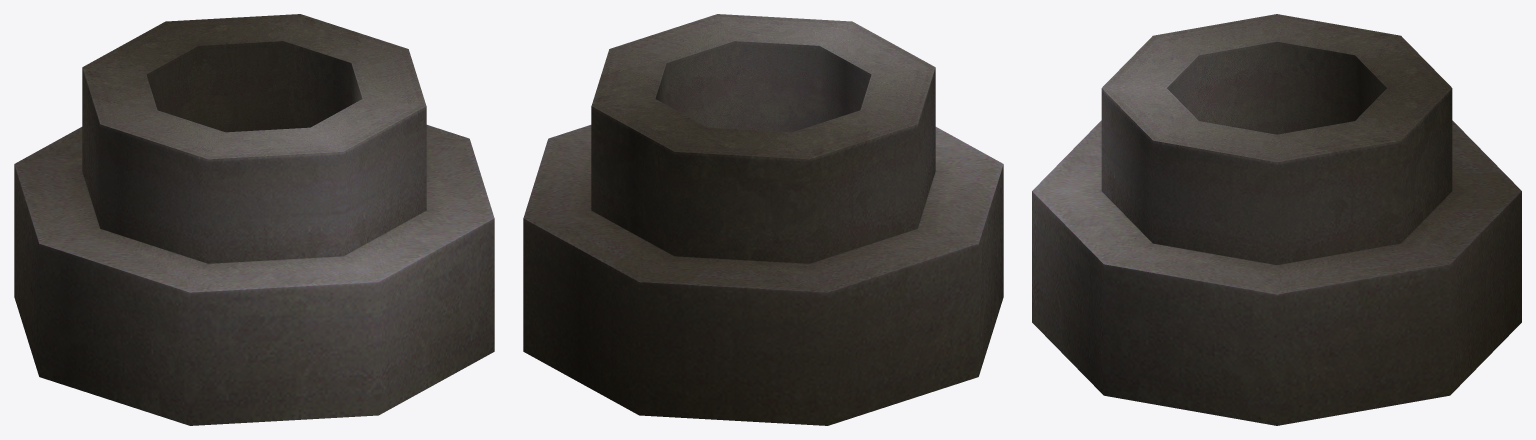
File: SpearLauncher.FBX
3 views of the same model, side by side, from view 1: azimuth 30°, elevation 25°; view 2: azimuth 150°, elevation 25°; view 3: azimuth 270°, elevation 25° (orthographic).
Visible parts, largest first — view 1: SpearLauncher; view 2: SpearLauncher; view 3: SpearLauncher.
Part boxes in pixels (left/top/right/bottom): SpearLauncher: left=14, top=14, right=494, bottom=425; SpearLauncher: left=523, top=14, right=1003, bottom=425; SpearLauncher: left=1032, top=14, right=1521, bottom=425.
Size of the model in its own units: 56.18 by 29.66 by 56.18.
